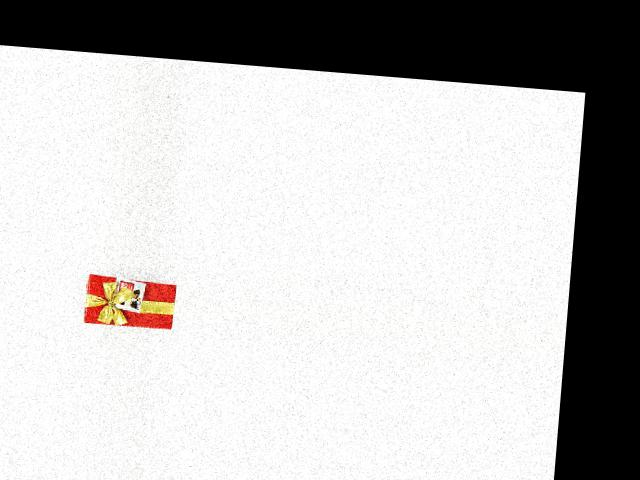chocolate: (80, 274, 175, 334)
